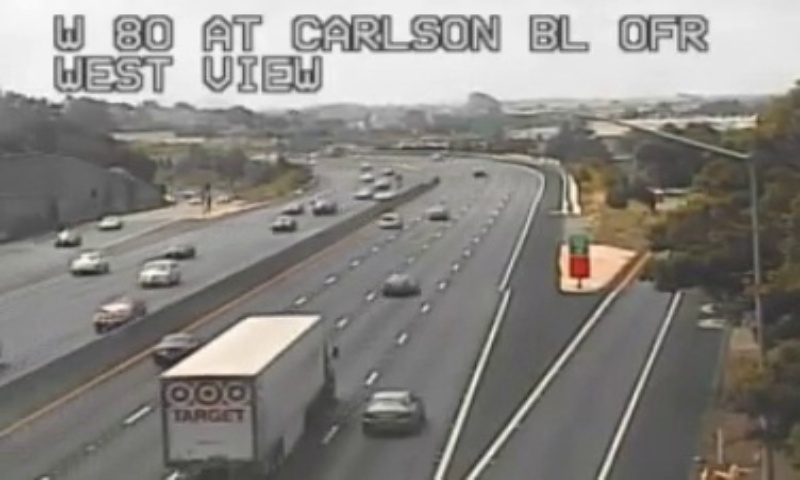car: (363, 389, 423, 431), (153, 333, 200, 364), (385, 274, 417, 295)
truck: (161, 313, 334, 480)
